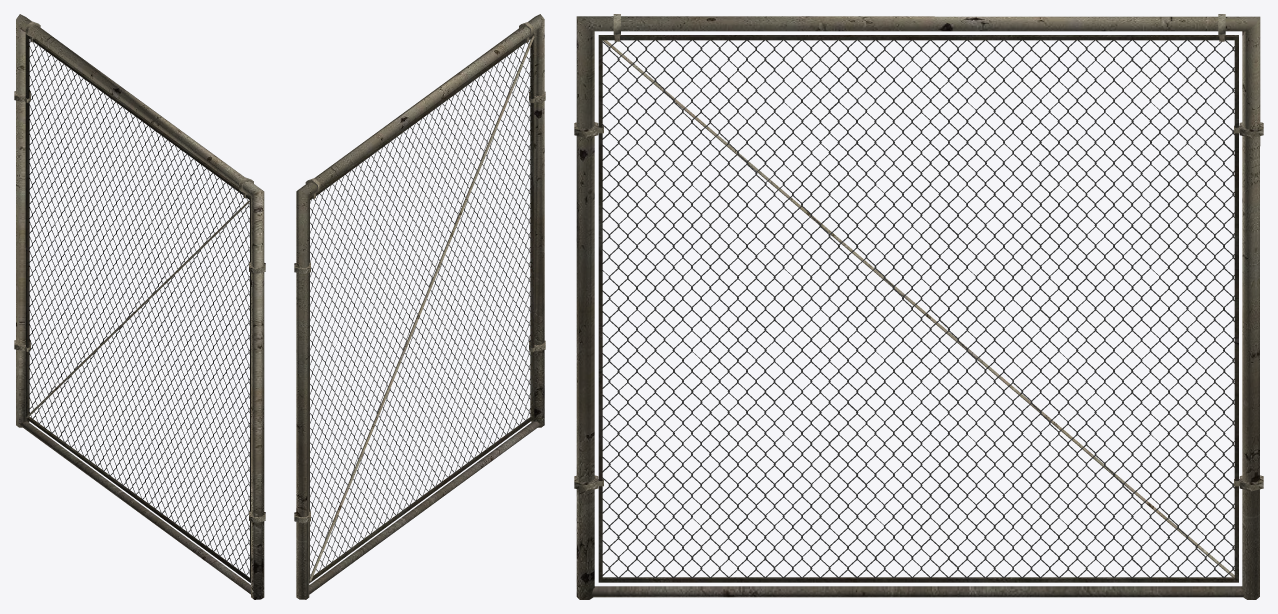
Rendered from interior_fence003b.glb.
3 views of the same model, side by side, from view 1: azimuth 30°, elevation 25°; view 2: azimuth 150°, elevation 25°; view 3: azimuth 270°, elevation 25° (orthographic). The views are drawn at different scales.
Parts seen in each view (by area): view 1: 1_fence_alpha, 0_prison_yard001; view 2: 1_fence_alpha, 0_prison_yard001; view 3: 1_fence_alpha, 0_prison_yard001.
Part boxes in pixels (bbox=[...]): 1_fence_alpha: bbox=[28, 41, 249, 575]; 0_prison_yard001: bbox=[14, 14, 265, 599]; 1_fence_alpha: bbox=[310, 43, 531, 575]; 0_prison_yard001: bbox=[294, 14, 545, 599]; 1_fence_alpha: bbox=[602, 40, 1234, 578]; 0_prison_yard001: bbox=[574, 14, 1263, 599].
Size of the model in its own units: 0.1313 by 3.06 by 3.28.
Materials: 2 (2 with a texture image).
